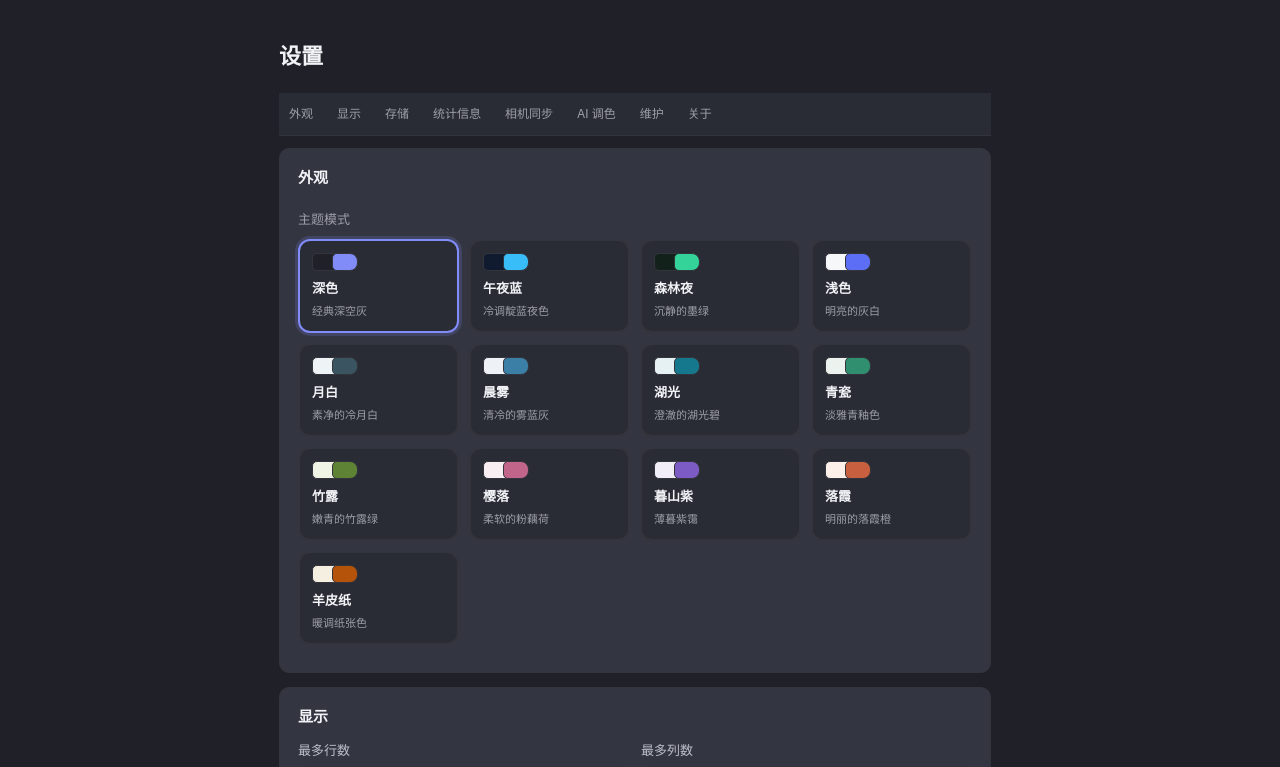
Test: SettingsPage › 点「撤回」重新加载设置并清除未保存态
Step 1. Click the text "浅色" → {"x": 838, "y": 289}, box [825,279,851,298]
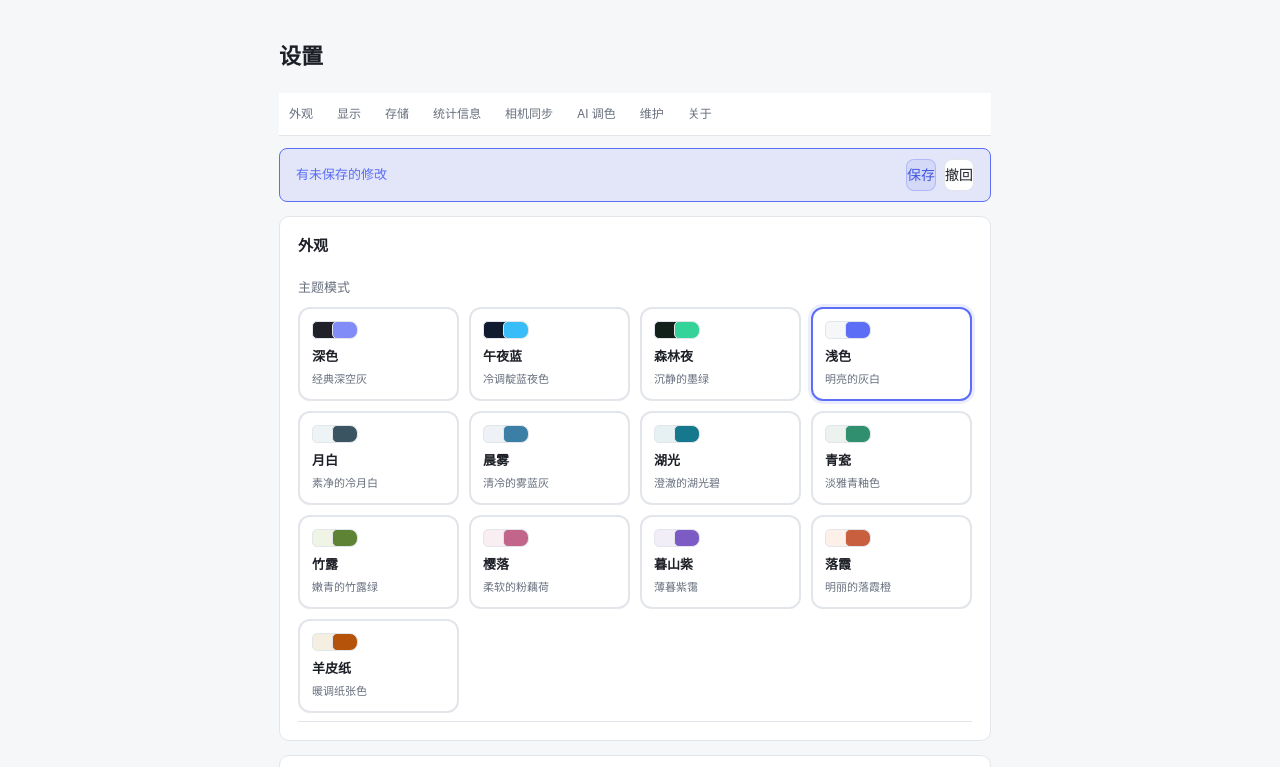
Step 2. Click the button "撤回" → {"x": 959, "y": 175}, box [944,159,974,191]
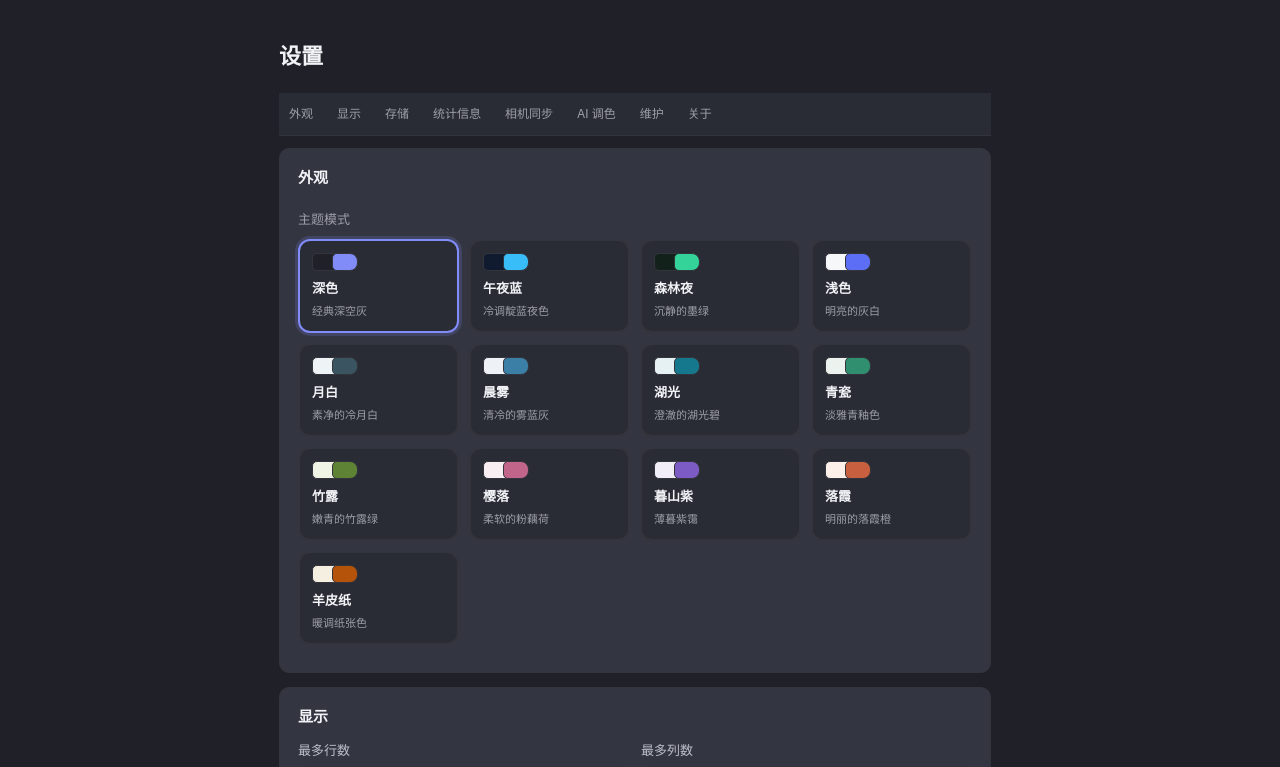
Expected: the text "有未保存的修改" is gone
